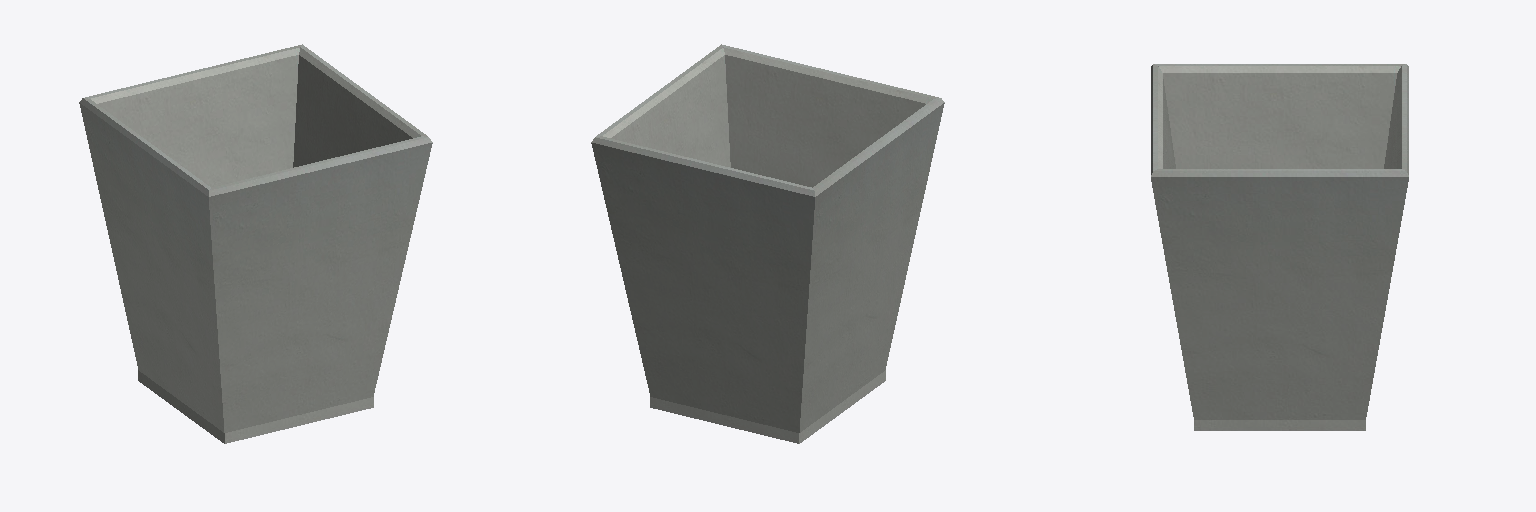
3 renders of one model, left to right at view 1: azimuth 30°, elevation 25°; view 2: azimuth 150°, elevation 25°; view 3: azimuth 270°, elevation 25°, orthographic.
Visible parts, largest first — view 1: bin_1; view 2: bin_1; view 3: bin_1.
Part boxes in pixels (left/top/right/bottom): bin_1: left=79, top=44, right=432, bottom=443; bin_1: left=591, top=44, right=944, bottom=443; bin_1: left=1151, top=64, right=1408, bottom=430.
Size of the model in its own units: 2.53 by 2.99 by 2.53.
1 materials, 1 textured.